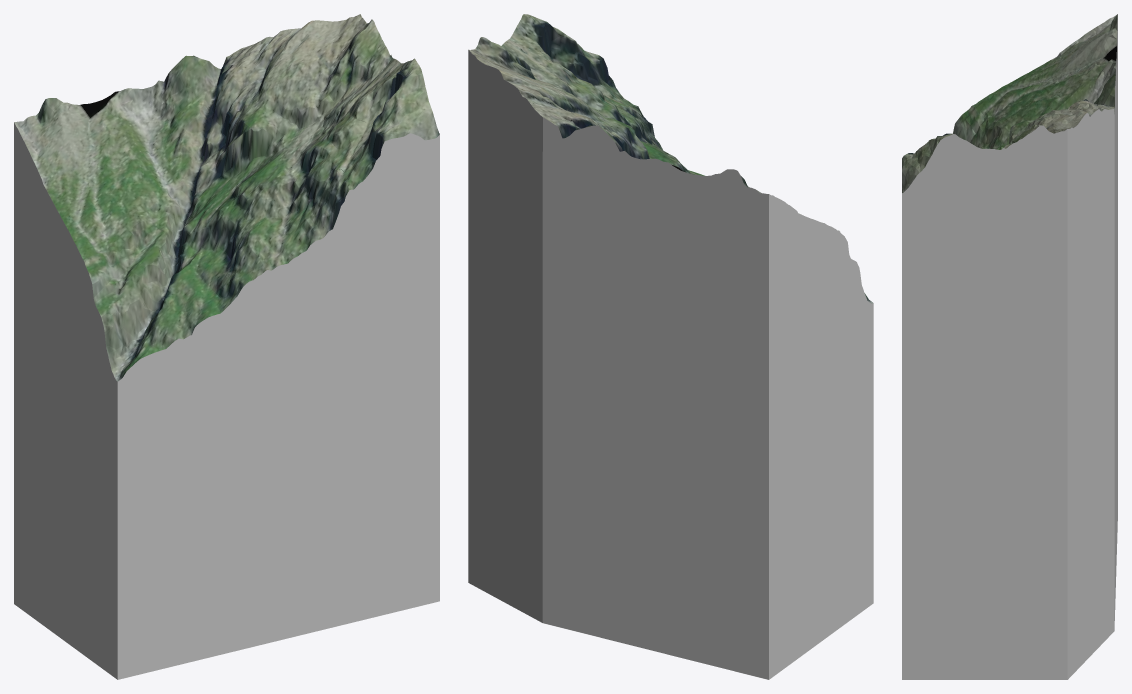
File: GrindScene15.gltf
3 views of the same model, side by side, from view 1: azimuth 30°, elevation 25°; view 2: azimuth 150°, elevation 25°; view 3: azimuth 270°, elevation 25° (orthographic). The views are drawn at different scales.
Visible parts, largest first — view 1: Plane; view 2: Plane; view 3: Plane.
Part boxes in pixels (x1,y1,x2,y2): Plane: (14,14,439,679); Plane: (468,14,873,679); Plane: (902,14,1117,679).
Size of the model in its own units: 0.6 by 0.9471 by 0.3344.
2 materials, 1 textured.
